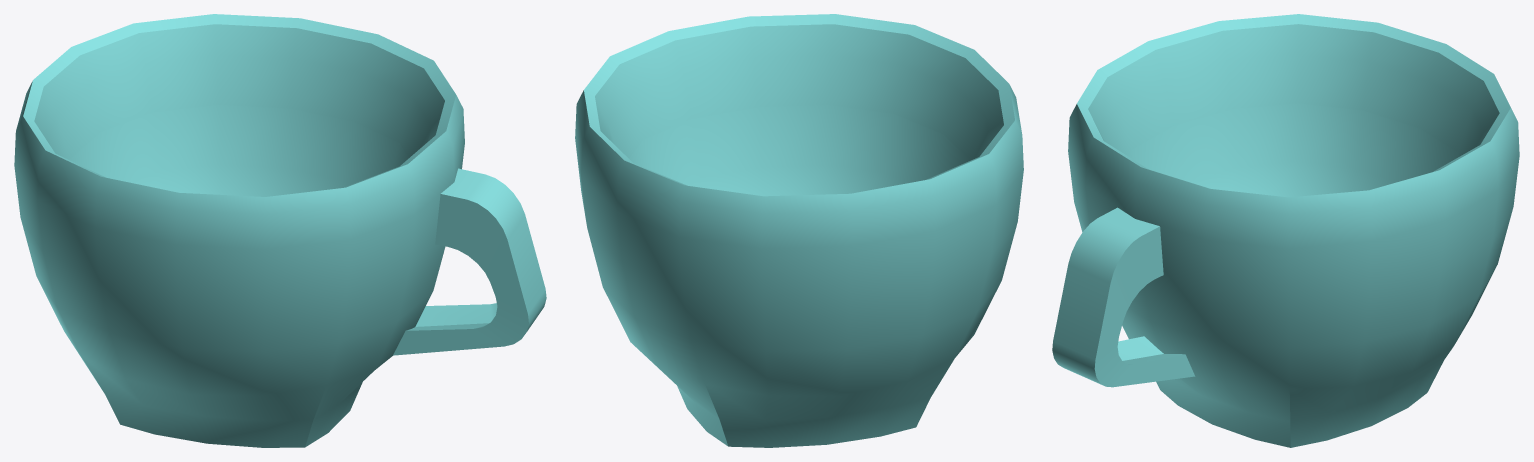
Rendered from tea_cup.glb.
3 views of the same model, side by side, from view 1: azimuth 30°, elevation 25°; view 2: azimuth 150°, elevation 25°; view 3: azimuth 270°, elevation 25° (orthographic). The views are drawn at different scales.
Visible parts, largest first — view 1: tea_cup; view 2: tea_cup; view 3: tea_cup.
Boxes of the visible parts, <box> form: tea_cup: <box>14,14,546,447</box>; tea_cup: <box>575,14,1023,447</box>; tea_cup: <box>1052,14,1519,447</box>.
Size of the model in its own units: 0.2968 by 0.2042 by 0.3026.
